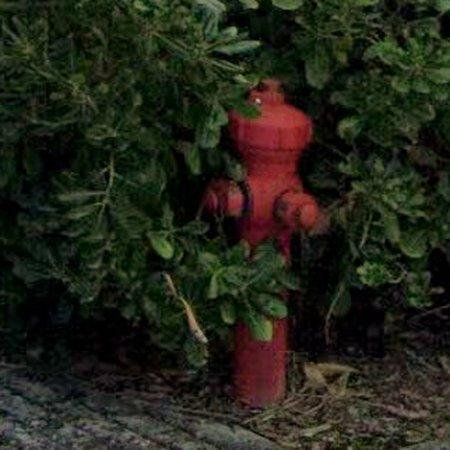a fire hydrant: (203, 79, 324, 260), (234, 319, 289, 409)
